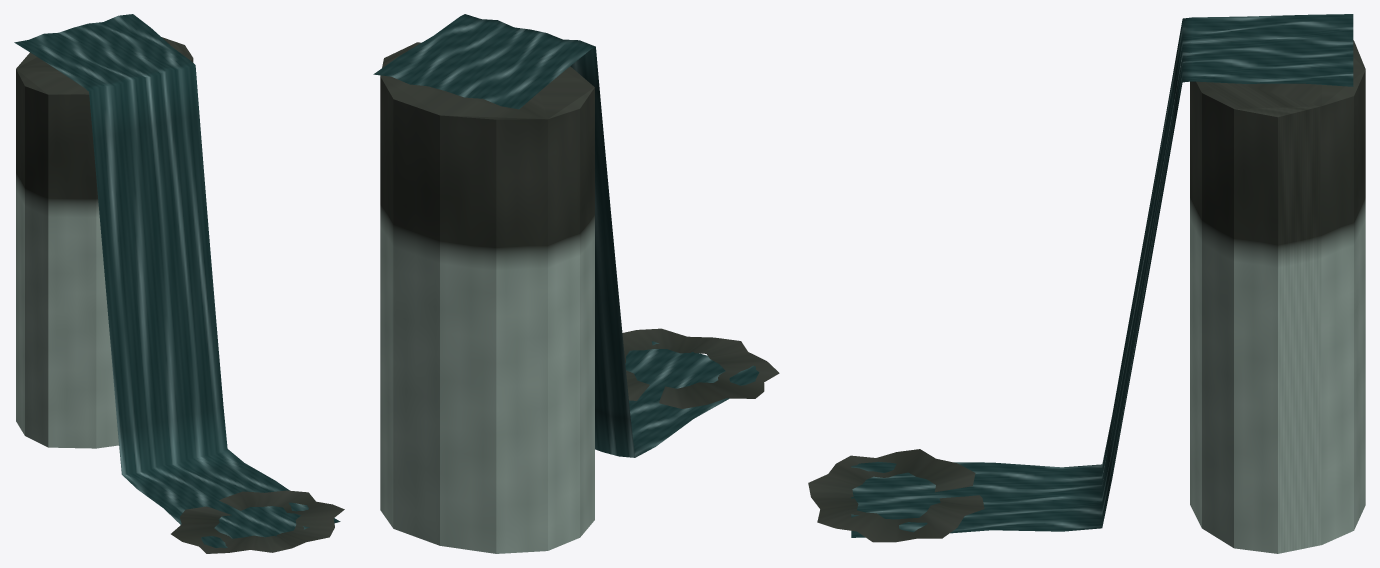
Rendered from fall-narrow-lod0.glb.
The picture shows the model from 3 angles, left to right: view 1: azimuth 30°, elevation 25°; view 2: azimuth 150°, elevation 25°; view 3: azimuth 270°, elevation 25°; orthographic projection. The views are drawn at different scales.
Size of the model in its own units: 0.4564 by 1 by 1.11.
1 material, 1 textured.
